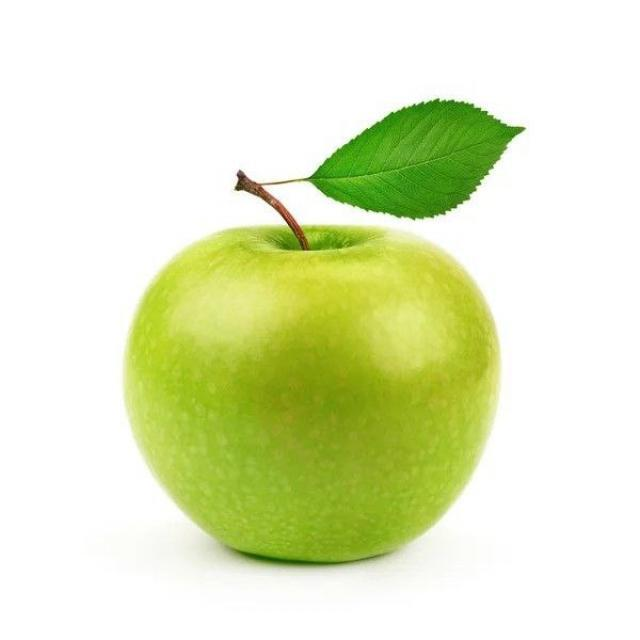Rotten: (142, 218, 508, 572)
